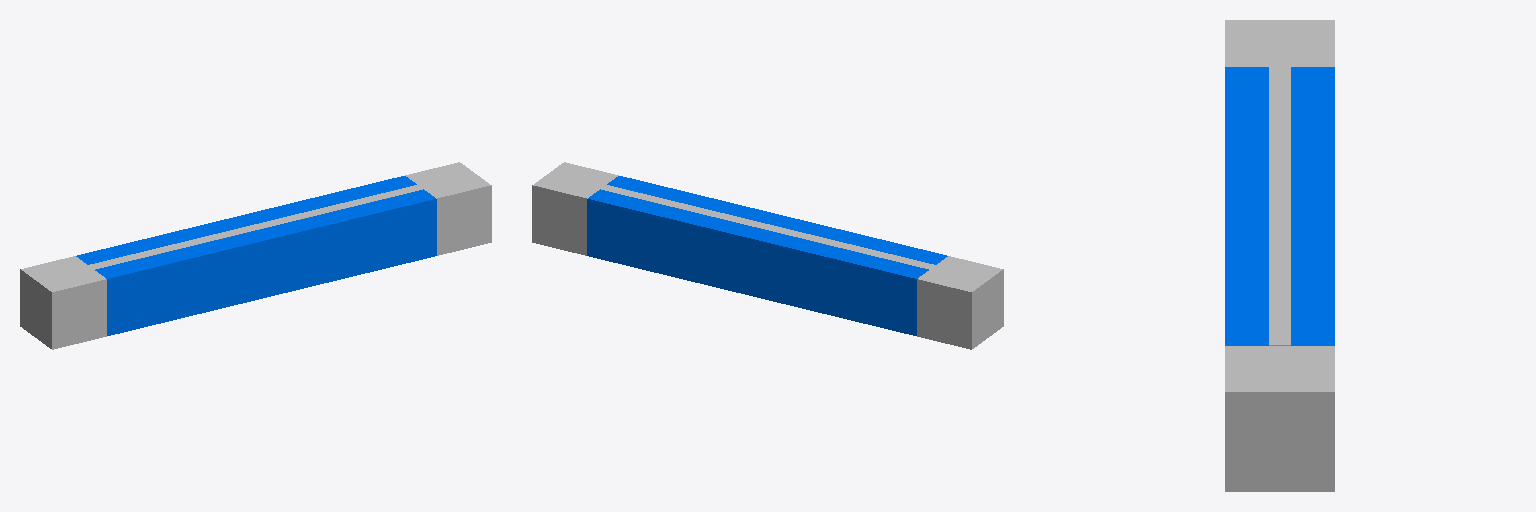
robot.urdf — snap_connector_4:
<?xml version="1.0"?>
<robot name="snap_connector_4">
    <!-- Middle plastic link is listed first as the 'base' reference link -->

        <link name="middle_plastic">
          <visual>
            <origin xyz="0 0 0" rpy="0 0 0" />
            <geometry>
              <box size="0.30 0.05 0.05" />
            </geometry>
            <material name="middle_plastic_material">
              <color rgba="0.0 0.5 1.0 1.0"/>
            </material>
          </visual>
          <collision>
            <origin xyz="0 0 0" rpy="0 0 0" />
            <geometry>
              <box size="0.3 0.05 0.05" />
            </geometry>
          </collision>
        </link>



        <link name="start_metal">
          <visual>
            <origin xyz="0 0 0" rpy="0 0 0" />
            <geometry>
              <box size="0.05 0.05 0.05" />
            </geometry>
            <material name="start_metal_material">
              <color rgba="0.8 0.8 0.8 1.0"/>
            </material>
          </visual>
          <collision>
            <origin xyz="0 0 0" rpy="0 0 0" />
            <geometry>
              <box size="0.05 0.05 0.05" />
            </geometry>
          </collision>
        </link>


        <link name="end_metal">
          <visual>
            <origin xyz="0 0 0" rpy="0 0 0" />
            <geometry>
              <box size="0.05 0.05 0.05" />
            </geometry>
            <material name="end_metal_material">
              <color rgba="0.8 0.8 0.8 1.0"/>
            </material>
          </visual>
          <collision>
            <origin xyz="0 0 0" rpy="0 0 0" />
            <geometry>
              <box size="0.05 0.05 0.05" />
            </geometry>
          </collision>
        </link>


        <link name="line">
          <visual>
            <origin xyz="0 0 0" rpy="0 0 0" />
            <geometry>
              <box size="0.3 0.01 0.0001" />
            </geometry>
            <material name="line_material">
              <color rgba="0.8 0.8 0.8 1.0"/>
            </material>
          </visual>
          <collision>
            <origin xyz="0 0 0" rpy="0 0 0" />
            <geometry>
              <box size="0.3 0.01 0.0001" />
            </geometry>
          </collision>
        </link>


    <!-- Fixed joints -->

        <joint name="start_metal_joint" type="fixed">
          <parent link="middle_plastic"/>
          <child link="start_metal"/>
          <origin xyz="-0.1750 0 0" rpy="0 0 0"/>
        </joint>


        <joint name="end_metal_joint" type="fixed">
          <parent link="middle_plastic"/>
          <child link="end_metal"/>
          <origin xyz="0.175 0 0" rpy="0 0 0"/>
        </joint>


        <joint name="line_joint" type="fixed">
          <parent link="middle_plastic"/>
          <child link="line"/>
          <origin xyz="0 0 0.025" rpy="0 0 0"/>
        </joint>

</robot>

--- Facts derived from the render (not from the file) ---
The picture shows the robot from 3 angles, left to right: view 1: azimuth 30°, elevation 25°; view 2: azimuth 150°, elevation 25°; view 3: azimuth 270°, elevation 25°; orthographic projection.
Robot: snap_connector_4 — 4 links, 3 joints (3 fixed); root link middle_plastic; default pose: every joint at zero.
Links seen in each view (by area): view 1: middle_plastic, start_metal, end_metal, line; view 2: middle_plastic, start_metal, end_metal, line; view 3: middle_plastic, end_metal, line, start_metal.
Boxes of the visible links, <box> form: middle_plastic: <box>76,176,436,335</box>; start_metal: <box>20,256,106,349</box>; end_metal: <box>405,162,491,255</box>; line: <box>89,185,422,269</box>; middle_plastic: <box>587,176,947,335</box>; start_metal: <box>917,256,1003,349</box>; end_metal: <box>532,162,618,255</box>; line: <box>601,185,934,269</box>; middle_plastic: <box>1225,67,1334,345</box>; end_metal: <box>1225,346,1334,491</box>; line: <box>1269,67,1290,345</box>; start_metal: <box>1225,20,1334,66</box>.
Bounding box of the posed robot: 0.4 × 0.05 × 0.05 m (x, y, z).
Geometry: primitives only (box / cylinder / sphere), no mesh files.